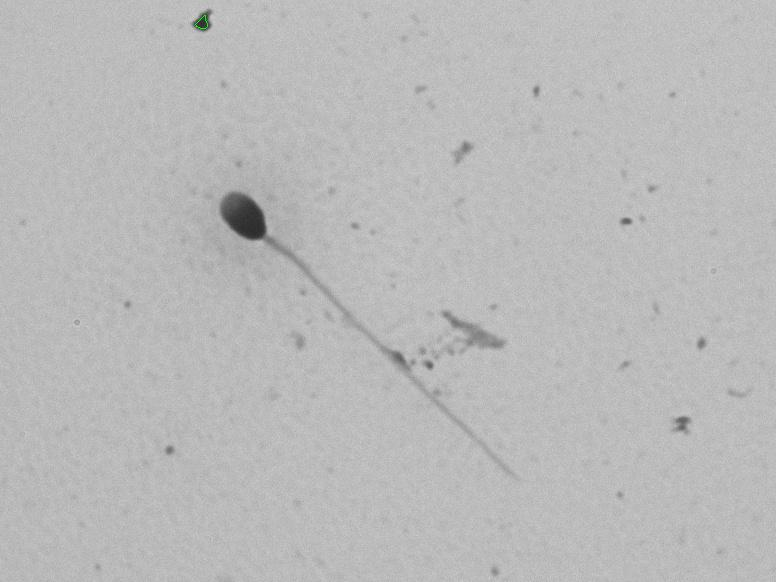Abnormal: (193, 154, 541, 502)
